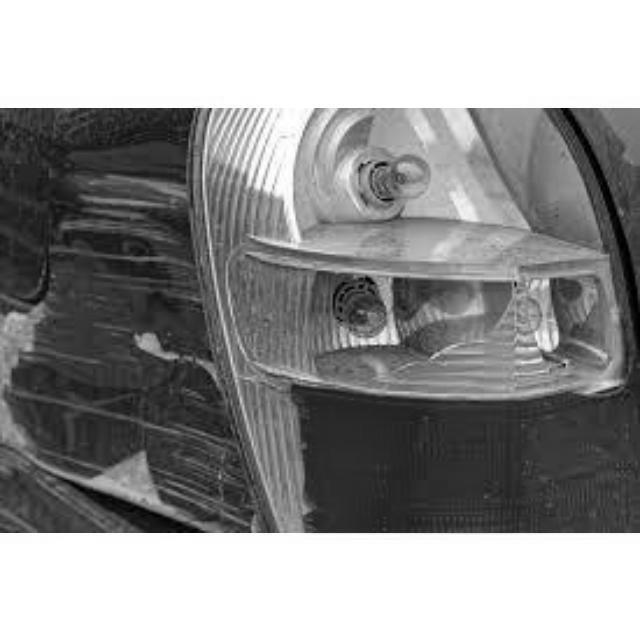Taillight-Damage: (189, 108, 638, 531)
